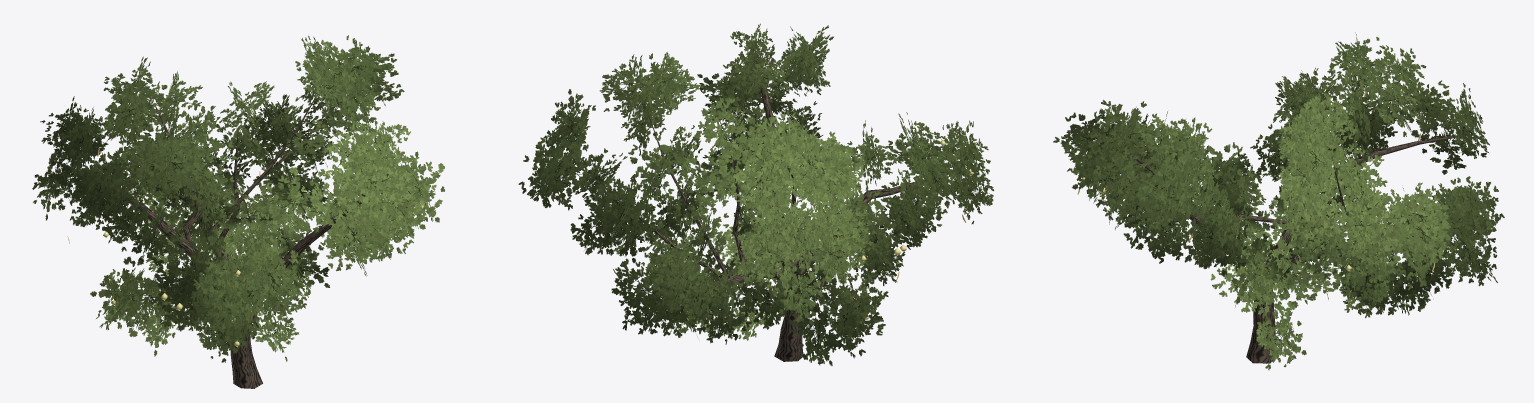
Rendered from adult-a.lod1.glb.
3 renders of one model, left to right at view 1: azimuth 30°, elevation 25°; view 2: azimuth 150°, elevation 25°; view 3: azimuth 270°, elevation 25°, orthographic. The views are drawn at different scales.
Visible parts, largest first — view 1: foliage, bark; view 2: foliage, bark; view 3: foliage, bark.
Part boxes in pixels (x1,y1,x2,y2): foliage: (32,35,444,362); bark: (56,94,388,388); foliage: (518,23,994,365); bark: (575,59,916,361); foliage: (1053,32,1504,370); bark: (1101,79,1460,363).
Bounding box in the file's own units: 8.96 × 7.5 × 9.93.
4 materials, 3 textured.
